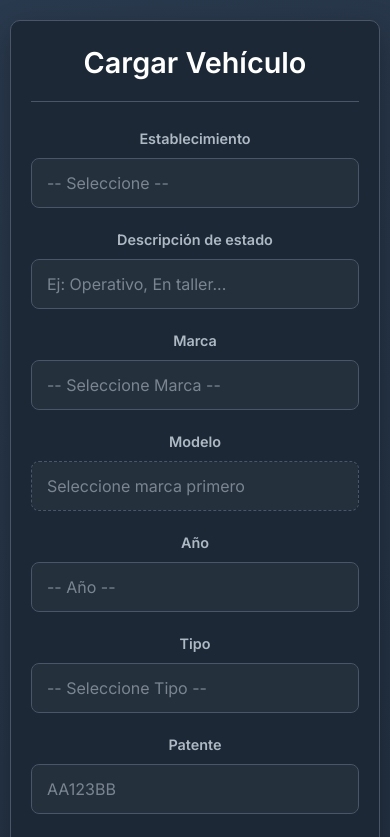
Componente RealTimeVehicle (Cargar Vehículo) › Debe actualizar modelos al seleccionar una marca
Note: Seleccionamos "Ford"
Select "Ford" in the dropdown labelled "Marca": [195, 385] box [31,360,359,410]
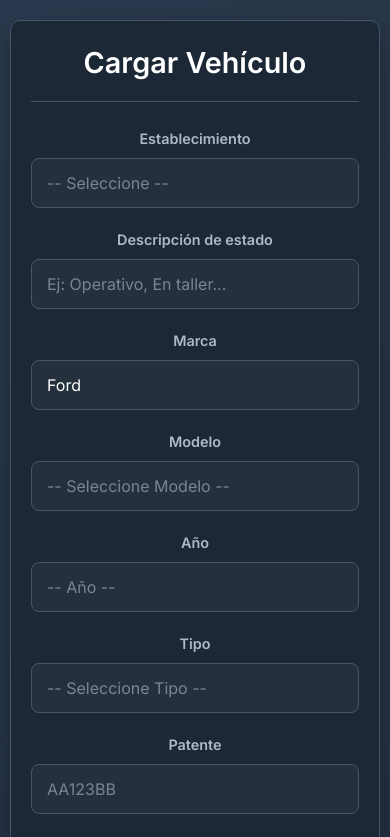
Expected: the dropdown labelled "Modelo" is shown, [31,461,359,511]
